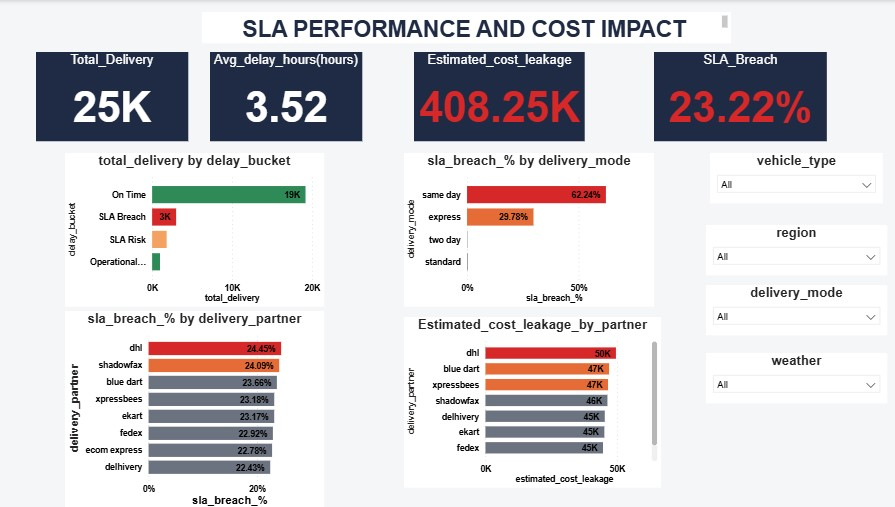

What the dashboard file says about the page in this screenshot:
{"tool":"powerbi","page":{"name":"SLA Performance","canvas":[1280,720],"ordinal":0},"visuals":[{"type":"card","title":"Total_Delivery","fields":{"Values":["Measure.total_delivery"]},"box":[53.6,73.4,214.6,125.6],"z":0},{"type":"card","title":"Estimated_cost_leakage","fields":{"Values":["Measure.delay_cost"]},"box":[587.3,73.4,241.4,125.6],"z":1000},{"type":"card","title":"Avg_delay_hours(hours)","fields":{"Values":["Measure.avg_delay_hours"]},"box":[299.3,73.4,214.6,125.6],"z":2000},{"type":"card","title":"SLA_Breach","fields":{"Values":["Measure.sla_breach_%"]},"box":[926.1,73.4,244.2,125.6],"z":3000},{"type":"clusteredBarChart","fields":{"Category":["Delivery_Logistics.delivery_mode"],"Y":["Measure.sla_breach_%"]},"box":[573.2,216,352.9,217.4],"z":4000},{"type":"barChart","fields":{"Category":["Delivery_Logistics.delivery_partner"],"Y":["Measure.sla_breach_%"]},"box":[94.6,439.1,365.6,280.9],"z":5000},{"type":"barChart","title":"Estimated_cost_leakage_by_partner","fields":{"Y":["Measure.delay_cost"],"Category":["Delivery_Logistics.delivery_partner"]},"box":[573.2,447.5,362.8,241.4],"z":6000},{"type":"barChart","fields":{"Category":["Delivery_Logistics.delay_bucket"],"Y":["Measure.total_delivery"]},"box":[94.6,216,365.6,217.4],"z":7000},{"type":"slicer","title":"vehicle_type","fields":{"Values":["Delivery_Logistics.vehicle_type"]},"box":[1005.2,216,244.2,70.6],"z":8000},{"type":"slicer","title":"region","fields":{"Values":["Delivery_Logistics.region"]},"box":[999.5,317.6,255.5,70.6],"z":9000},{"type":"textbox","box":[288,16.9,746.8,43.8],"z":10000},{"type":"slicer","title":"delivery_mode","fields":{"Values":["Delivery_Logistics.delivery_mode"]},"box":[999.5,402.4,255.5,70.6],"z":11000},{"type":"slicer","title":"weather","fields":{"Values":["Delivery_Logistics.weather_condition"]},"box":[999.5,498.4,255.5,70.6],"z":12000}]}

Visuals, with their boxes in screenshot pixels (x1, y1, x2, y2), scaled from the page's 1280x720 canvas onto the 895x507 screenshot:
"Total_Delivery" card: 37,52,188,140
"Estimated_cost_leakage" card: 411,52,579,140
"Avg_delay_hours(hours)" card: 209,52,359,140
"SLA_Breach" card: 648,52,818,140
clusteredBarChart - Delivery_Logistics.delivery_mode x Measure.sla_breach_%: 401,152,648,305
barChart - Delivery_Logistics.delivery_partner x Measure.sla_breach_%: 66,309,322,506
"Estimated_cost_leakage_by_partner" barChart: 401,315,654,485
barChart - Delivery_Logistics.delay_bucket x Measure.total_delivery: 66,152,322,305
"vehicle_type" slicer: 703,152,874,202
"region" slicer: 699,224,878,273
textbox: 201,12,724,43
"delivery_mode" slicer: 699,283,878,333
"weather" slicer: 699,351,878,401
